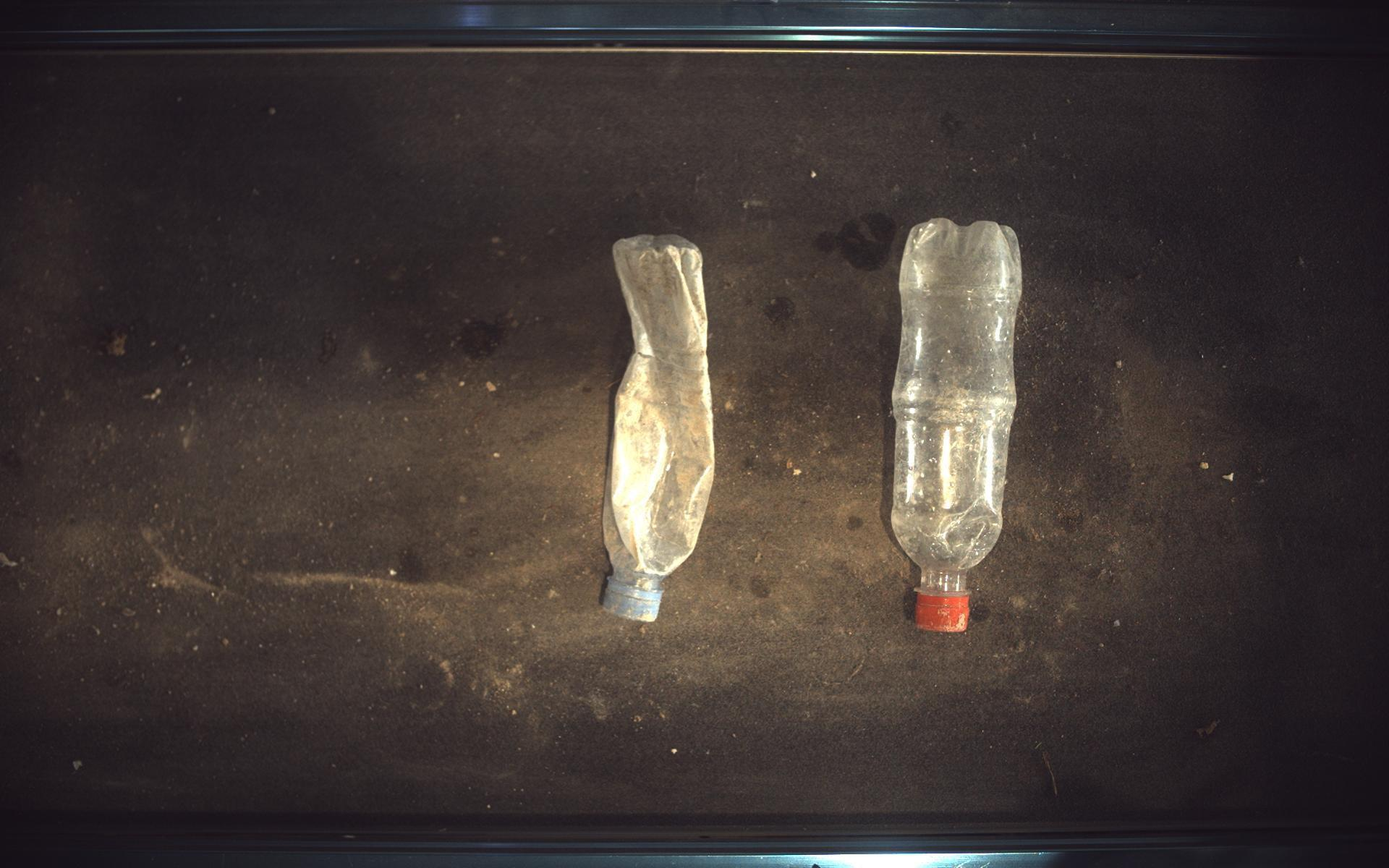general_w: (893, 218, 1024, 633), (601, 234, 715, 623)
